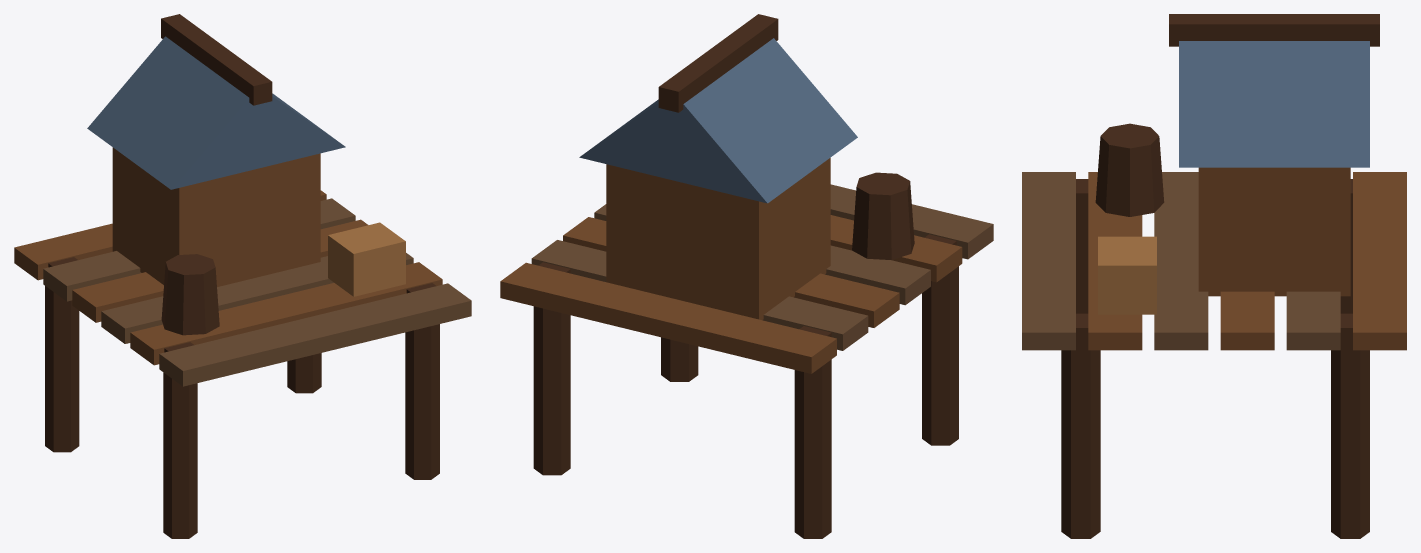
File: fishing_dock.glb
3 views of the same model, side by side, from view 1: azimuth 30°, elevation 25°; view 2: azimuth 150°, elevation 25°; view 3: azimuth 270°, elevation 25° (orthographic). The views are drawn at different scales.
Parts seen in each view (by area): view 1: shelter_body, roof_body, plank_0, plank_1, piling, piling.001, piling.002, crate, plank_2, barrel, roof_ridge, plank_4 (+3 smaller); view 2: shelter_body, roof_body, plank_5, piling.001, piling.003, piling, barrel, plank_4, roof_ridge, plank_3, plank_2, plank_0 (+2 smaller); view 3: roof_body, shelter_body, plank_0, plank_5, plank_2, piling.002, piling.003, roof_ridge, barrel, crate, plank_1, plank_3 (+3 smaller).
Boxes of the visible parts, left/top/right/bottom form: shelter_body: left=112, top=147, right=320, bottom=286; roof_body: left=87, top=36, right=345, bottom=189; plank_0: left=159, top=283, right=471, bottom=386; plank_1: left=130, top=262, right=442, bottom=365; piling: left=163, top=342, right=197, bottom=538; piling.001: left=45, top=257, right=79, bottom=452; piling.002: left=405, top=283, right=439, bottom=479; crate: left=328, top=222, right=405, bottom=296; plank_2: left=101, top=253, right=413, bottom=343; barrel: left=161, top=254, right=219, bottom=335; roof_ridge: left=161, top=14, right=272, bottom=105; plank_4: left=43, top=198, right=355, bottom=301; shelter_body: left=606, top=158, right=830, bottom=319; roof_body: left=579, top=38, right=857, bottom=203; plank_5: left=500, top=262, right=836, bottom=373; piling.001: left=794, top=326, right=831, bottom=538; piling.003: left=533, top=262, right=570, bottom=475; piling: left=922, top=234, right=958, bottom=445; barrel: left=852, top=172, right=914, bottom=259; plank_4: left=531, top=240, right=868, bottom=350; roof_ridge: left=658, top=14, right=778, bottom=112; plank_3: left=563, top=217, right=899, bottom=327; plank_2: left=594, top=204, right=930, bottom=305; plank_0: left=830, top=184, right=993, bottom=259; roof_body: left=1179, top=41, right=1369, bottom=167; shelter_body: left=1198, top=167, right=1350, bottom=296; plank_0: left=1022, top=172, right=1075, bottom=350; plank_5: left=1353, top=172, right=1406, bottom=350; plank_2: left=1154, top=172, right=1208, bottom=350; piling.002: left=1061, top=313, right=1100, bottom=538; piling.003: left=1331, top=313, right=1369, bottom=538; roof_ridge: left=1169, top=14, right=1379, bottom=46; barrel: left=1095, top=123, right=1164, bottom=216; crate: left=1098, top=236, right=1156, bottom=314; plank_1: left=1088, top=172, right=1142, bottom=350; plank_3: left=1220, top=291, right=1274, bottom=350.
Size of the model in its own units: 1.55 by 2 by 1.57.
